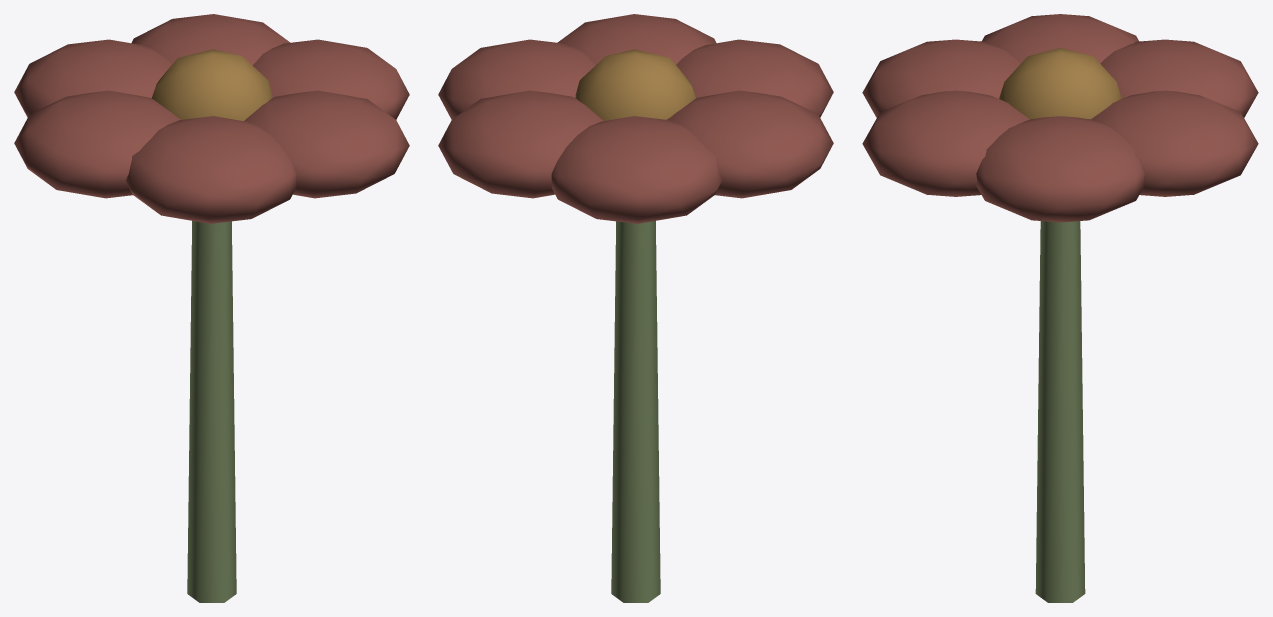
Rendered from flower.glb.
3 renders of one model, left to right at view 1: azimuth 30°, elevation 25°; view 2: azimuth 150°, elevation 25°; view 3: azimuth 270°, elevation 25°, orthographic.
Parts seen in each view (by area): view 1: flower; view 2: flower; view 3: flower.
Part boxes in pixels (box(x1,y1,x2,y2)): flower: box(14, 14, 409, 602); flower: box(438, 14, 833, 602); flower: box(862, 14, 1258, 602).
Bounding box in the file's own units: 0.78 × 1.09 × 0.7211.
